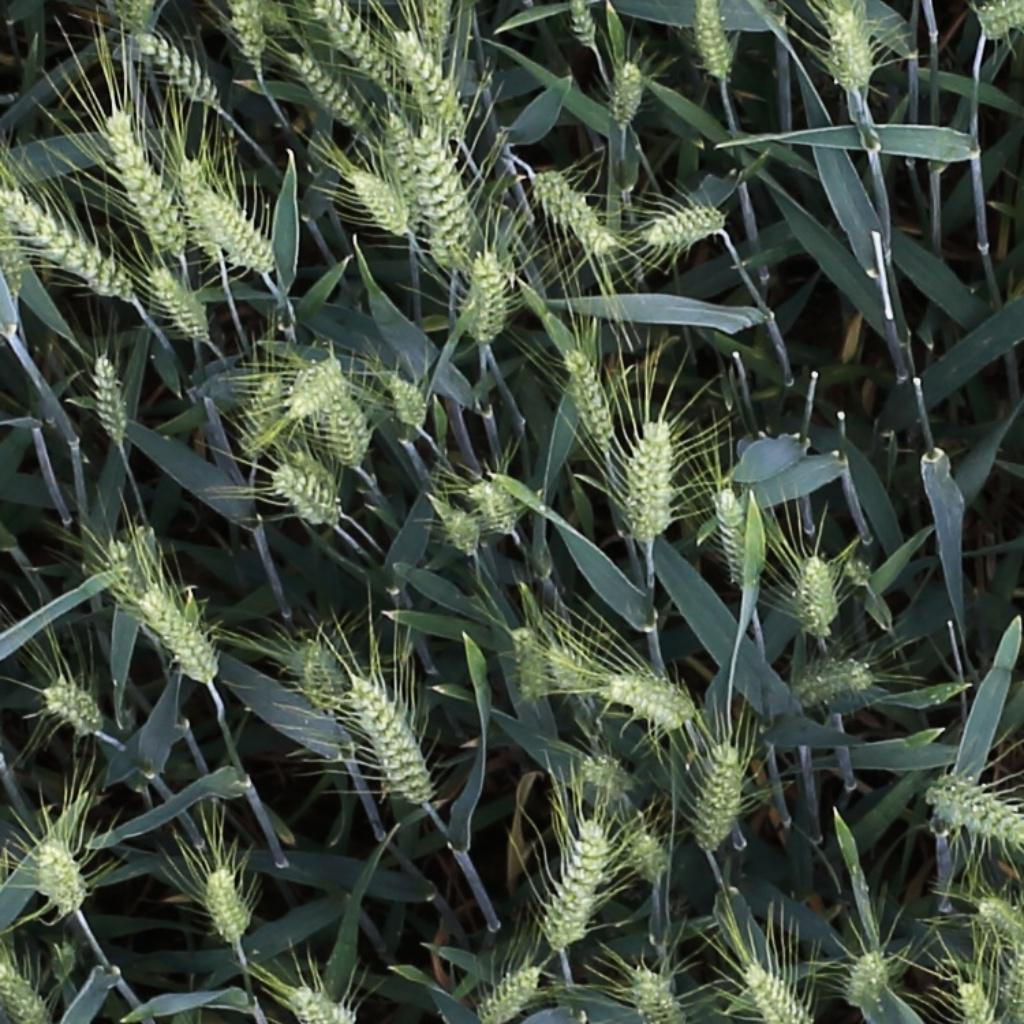0-0: (0, 192, 125, 293), (103, 109, 185, 255), (349, 673, 432, 806), (395, 28, 469, 146), (541, 823, 607, 952), (418, 139, 479, 268), (623, 411, 680, 544), (153, 586, 230, 684), (318, 0, 400, 92), (535, 167, 615, 253), (288, 50, 368, 132), (136, 31, 221, 106), (200, 188, 274, 271), (719, 484, 774, 594), (929, 779, 1024, 842), (566, 344, 618, 456), (147, 260, 212, 341), (465, 242, 515, 347), (384, 104, 426, 224), (697, 742, 740, 856), (534, 620, 593, 702), (235, 363, 281, 468), (828, 5, 878, 98), (634, 205, 723, 256), (178, 150, 219, 260), (350, 165, 412, 237), (289, 651, 345, 723), (744, 961, 809, 1022), (288, 353, 345, 422), (479, 963, 543, 1022), (38, 839, 84, 917), (578, 752, 639, 810), (271, 468, 338, 520), (208, 862, 248, 948), (509, 637, 554, 712), (106, 527, 147, 608), (334, 387, 373, 472), (92, 349, 126, 446), (383, 364, 430, 434), (478, 472, 530, 534), (285, 453, 344, 507), (633, 962, 684, 1024), (850, 943, 891, 1018), (0, 958, 47, 1022), (699, 1, 733, 86), (43, 688, 103, 735), (806, 548, 837, 638), (794, 670, 873, 703), (0, 210, 25, 308), (289, 984, 350, 1024), (226, 0, 263, 65), (638, 835, 676, 897), (614, 53, 643, 132), (969, 887, 1014, 936), (442, 502, 478, 558), (567, 0, 603, 53), (957, 973, 993, 1024), (838, 534, 870, 589), (977, 1, 1022, 35), (427, 0, 450, 57)
